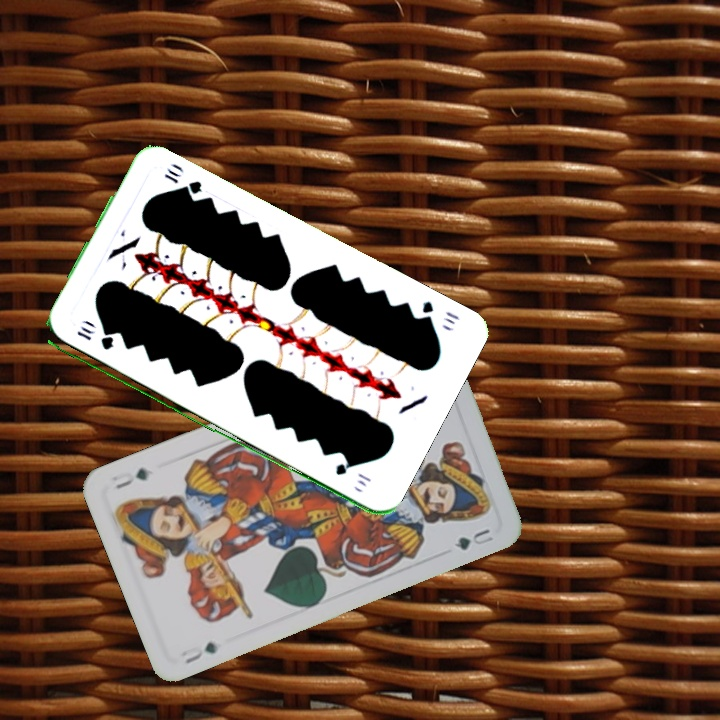G10: (414, 296, 462, 328), (72, 322, 116, 353)
GU: (181, 637, 221, 667)
